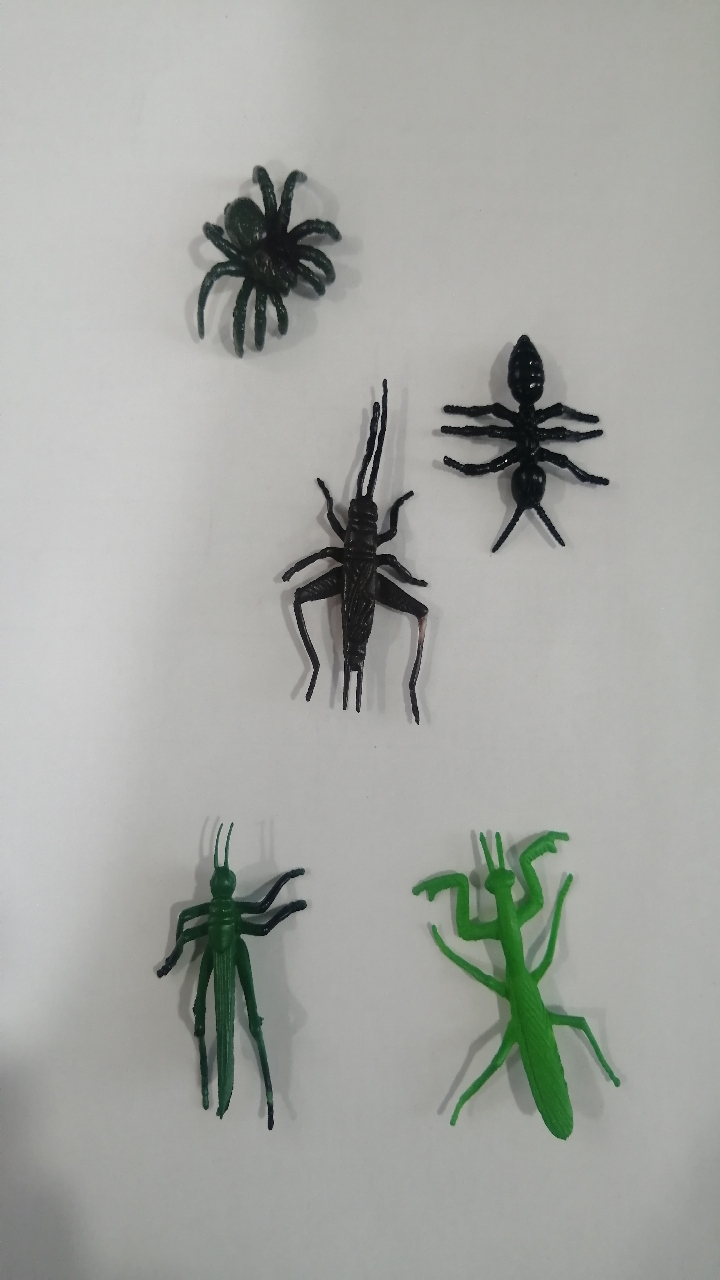intruso: (375, 792, 652, 1171), (246, 372, 464, 746), (121, 812, 351, 1157), (415, 314, 628, 580), (160, 142, 355, 369)
